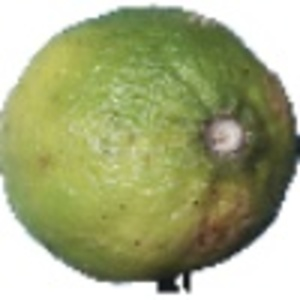limão: (1, 5, 300, 292)
